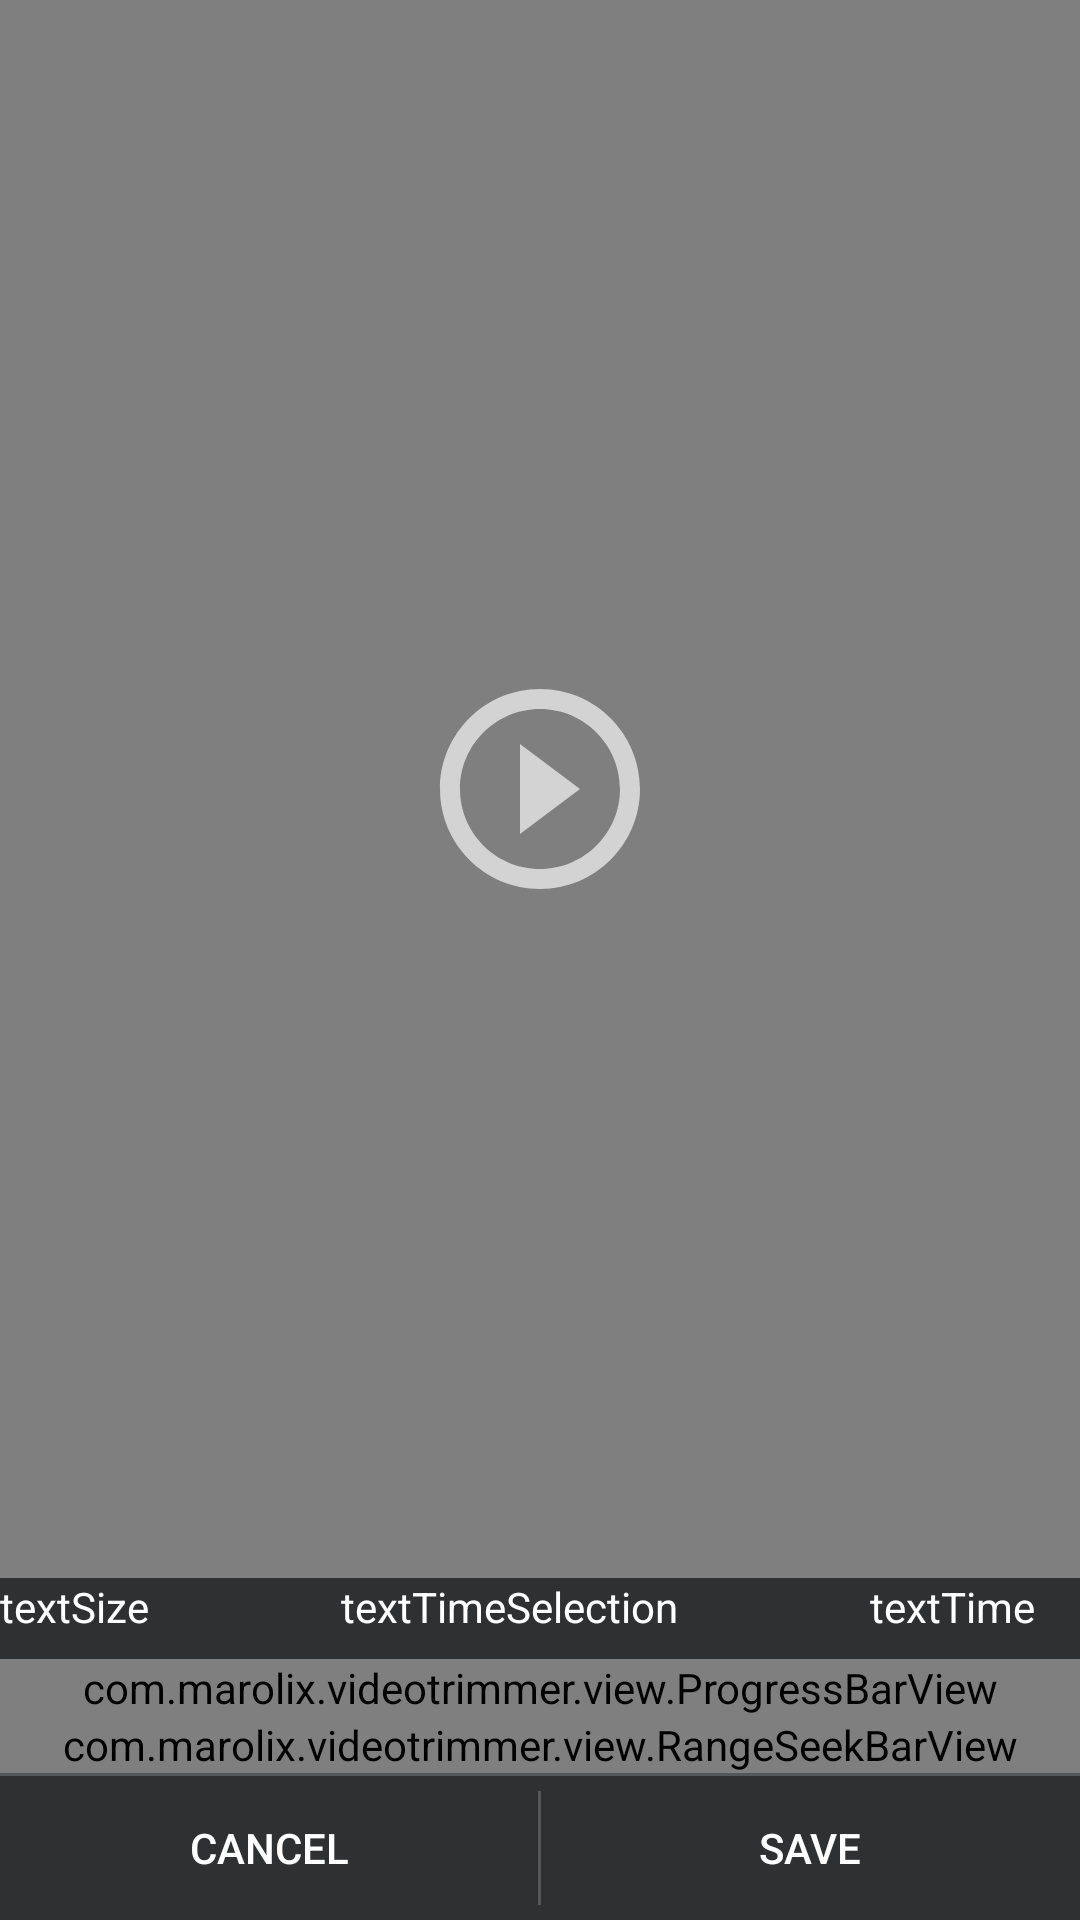

Screen size 1080×1920. Icon name, then its box in pixels as (x1, y1, x2, y2):
play circle: (440, 689, 640, 889)
